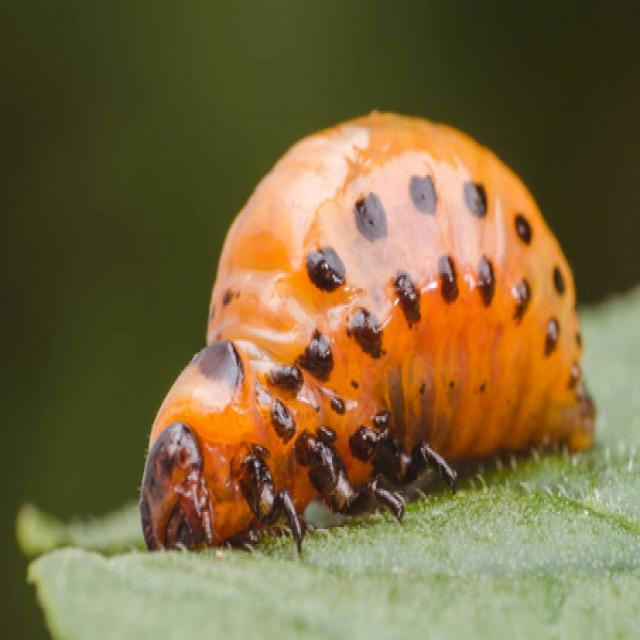ShuCaiHuaBanChong-Larva-: (127, 86, 602, 558)
